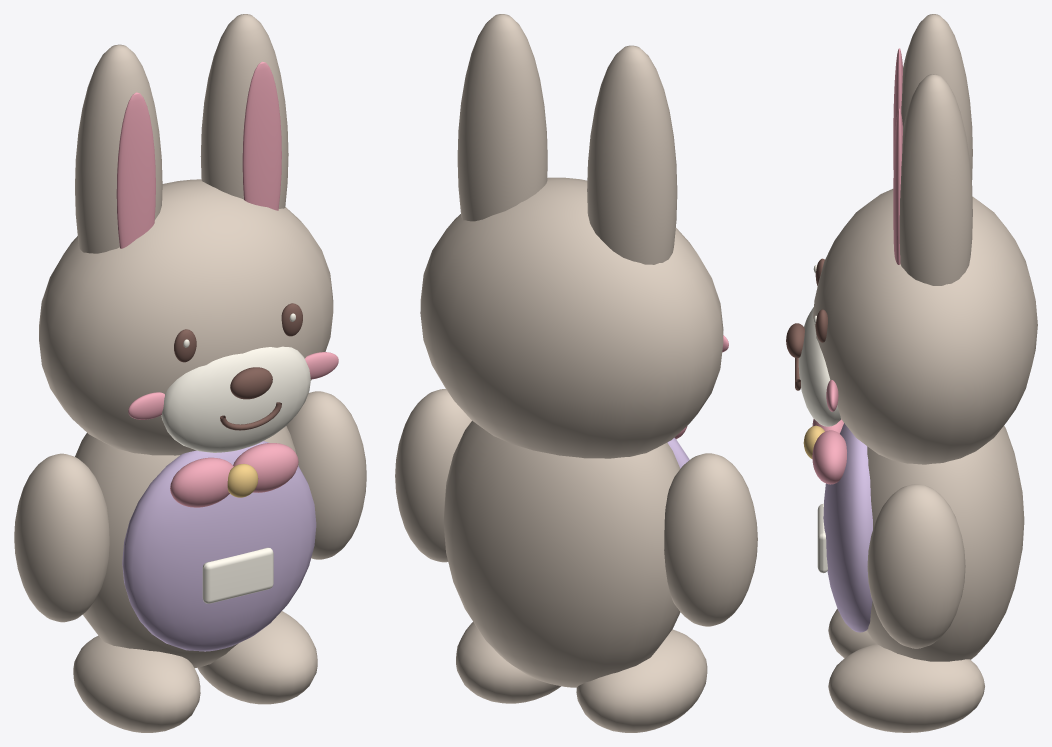
File: bunny.glb
3 views of the same model, side by side, from view 1: azimuth 30°, elevation 25°; view 2: azimuth 150°, elevation 25°; view 3: azimuth 270°, elevation 25° (orthographic). The views are drawn at different scales.
Visible parts, largest first — view 1: Head, Apron, Paw, Muzzle, Long ear, Body, Foot, Long ear.001, Paw.001, Foot.001, Ear inner, Ear inner.001 (+8 smaller); view 2: Head, Body, Long ear, Long ear.001, Paw, Foot, Paw.001, Foot.001; view 3: Head, Body, Long ear.001, Paw.001, Foot.001, Apron, Long ear, Muzzle, Bow.001, Ear inner.001, Foot, Ear inner (+2 smaller).
Boxes of the visible parts, box(x1,y1,x2,y2) form: Head: box(39, 179, 333, 455); Apron: box(122, 441, 316, 651); Paw: box(14, 453, 109, 622); Muzzle: box(161, 346, 310, 452); Long ear: box(75, 44, 162, 253); Body: box(75, 426, 298, 667); Foot: box(73, 635, 200, 732); Long ear.001: box(200, 14, 288, 208); Paw.001: box(286, 391, 366, 559); Foot.001: box(197, 611, 317, 704); Ear inner: box(116, 92, 155, 248); Ear inner.001: box(242, 61, 281, 210); Head: box(420, 177, 723, 458); Body: box(443, 421, 680, 687); Long ear: box(587, 45, 677, 264); Long ear.001: box(457, 14, 547, 221); Paw: box(664, 453, 757, 626); Foot: box(576, 629, 707, 732); Paw.001: box(395, 389, 471, 562); Foot.001: box(456, 622, 560, 703); Head: box(813, 189, 1037, 464); Body: box(866, 425, 1024, 661); Long ear.001: box(899, 74, 972, 285); Paw.001: box(867, 484, 965, 648); Foot.001: box(828, 644, 984, 732); Apron: box(823, 423, 872, 632); Long ear: box(901, 14, 972, 181); Muzzle: box(798, 307, 841, 426); Bow.001: box(812, 430, 846, 484); Ear inner.001: box(893, 108, 902, 264); Foot: box(828, 609, 875, 658); Ear inner: box(893, 48, 902, 169).
Size of the model in its own units: 1.56 by 2.94 by 1.03.
